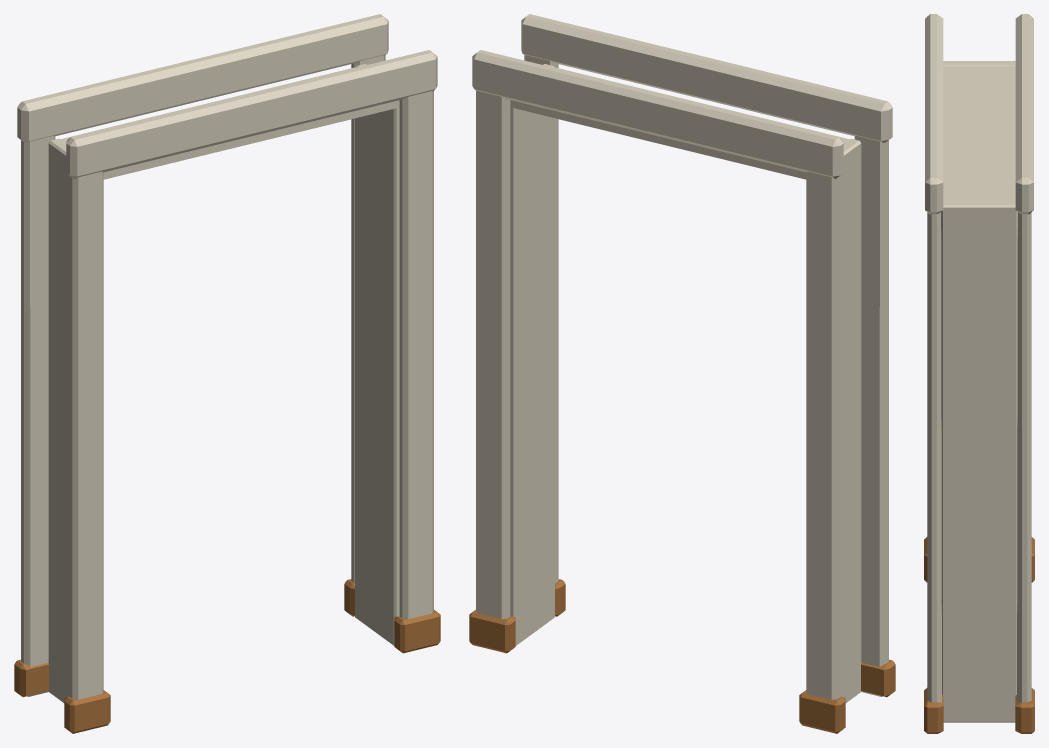
The model's file is door_frame.glb.
3 views of the same model, side by side, from view 1: azimuth 30°, elevation 25°; view 2: azimuth 150°, elevation 25°; view 3: azimuth 270°, elevation 25° (orthographic). The views are drawn at different scales.
Parts seen in each view (by area): view 1: door_frame; view 2: door_frame; view 3: door_frame.
Part boxes in pixels (x1,y1,x2,y2): door_frame: (14, 14, 440, 733); door_frame: (469, 14, 895, 733); door_frame: (924, 14, 1034, 733).
Bounding box in the file's own units: 1.18 × 1.8 × 0.326.
